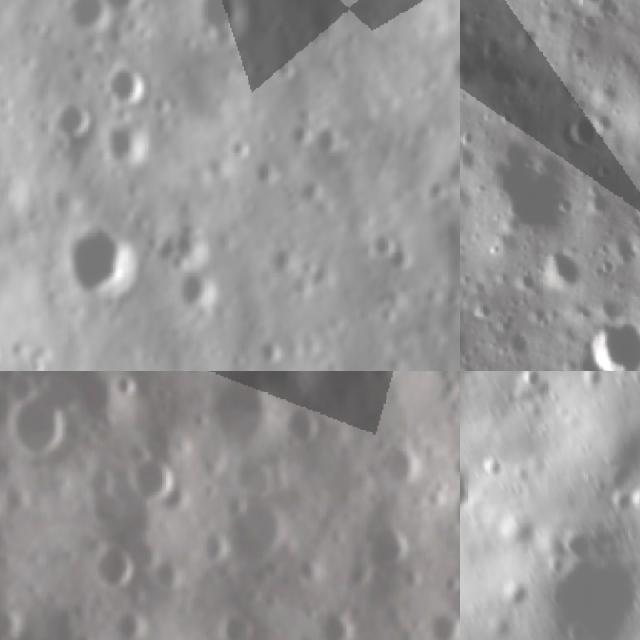crater: (525, 531, 640, 640), (462, 134, 574, 245), (53, 203, 155, 319), (210, 449, 306, 563), (1, 381, 83, 465), (78, 458, 135, 528), (97, 111, 159, 172), (362, 514, 416, 581), (170, 268, 230, 322), (102, 56, 156, 115), (276, 398, 329, 458), (128, 452, 182, 508), (590, 311, 640, 371), (192, 0, 252, 47), (90, 540, 138, 597), (378, 435, 426, 491), (49, 91, 97, 146), (53, 0, 120, 38), (357, 219, 406, 266), (542, 248, 588, 294), (212, 605, 268, 640), (305, 119, 349, 163), (248, 146, 292, 190), (442, 455, 460, 553), (419, 475, 460, 518), (0, 588, 31, 640), (601, 450, 640, 491), (289, 170, 328, 210), (108, 371, 146, 407), (423, 609, 460, 640), (494, 577, 531, 608), (604, 492, 636, 520), (477, 452, 503, 481), (436, 568, 460, 599), (96, 0, 140, 15), (460, 466, 473, 512), (516, 371, 543, 392), (628, 481, 640, 518)
